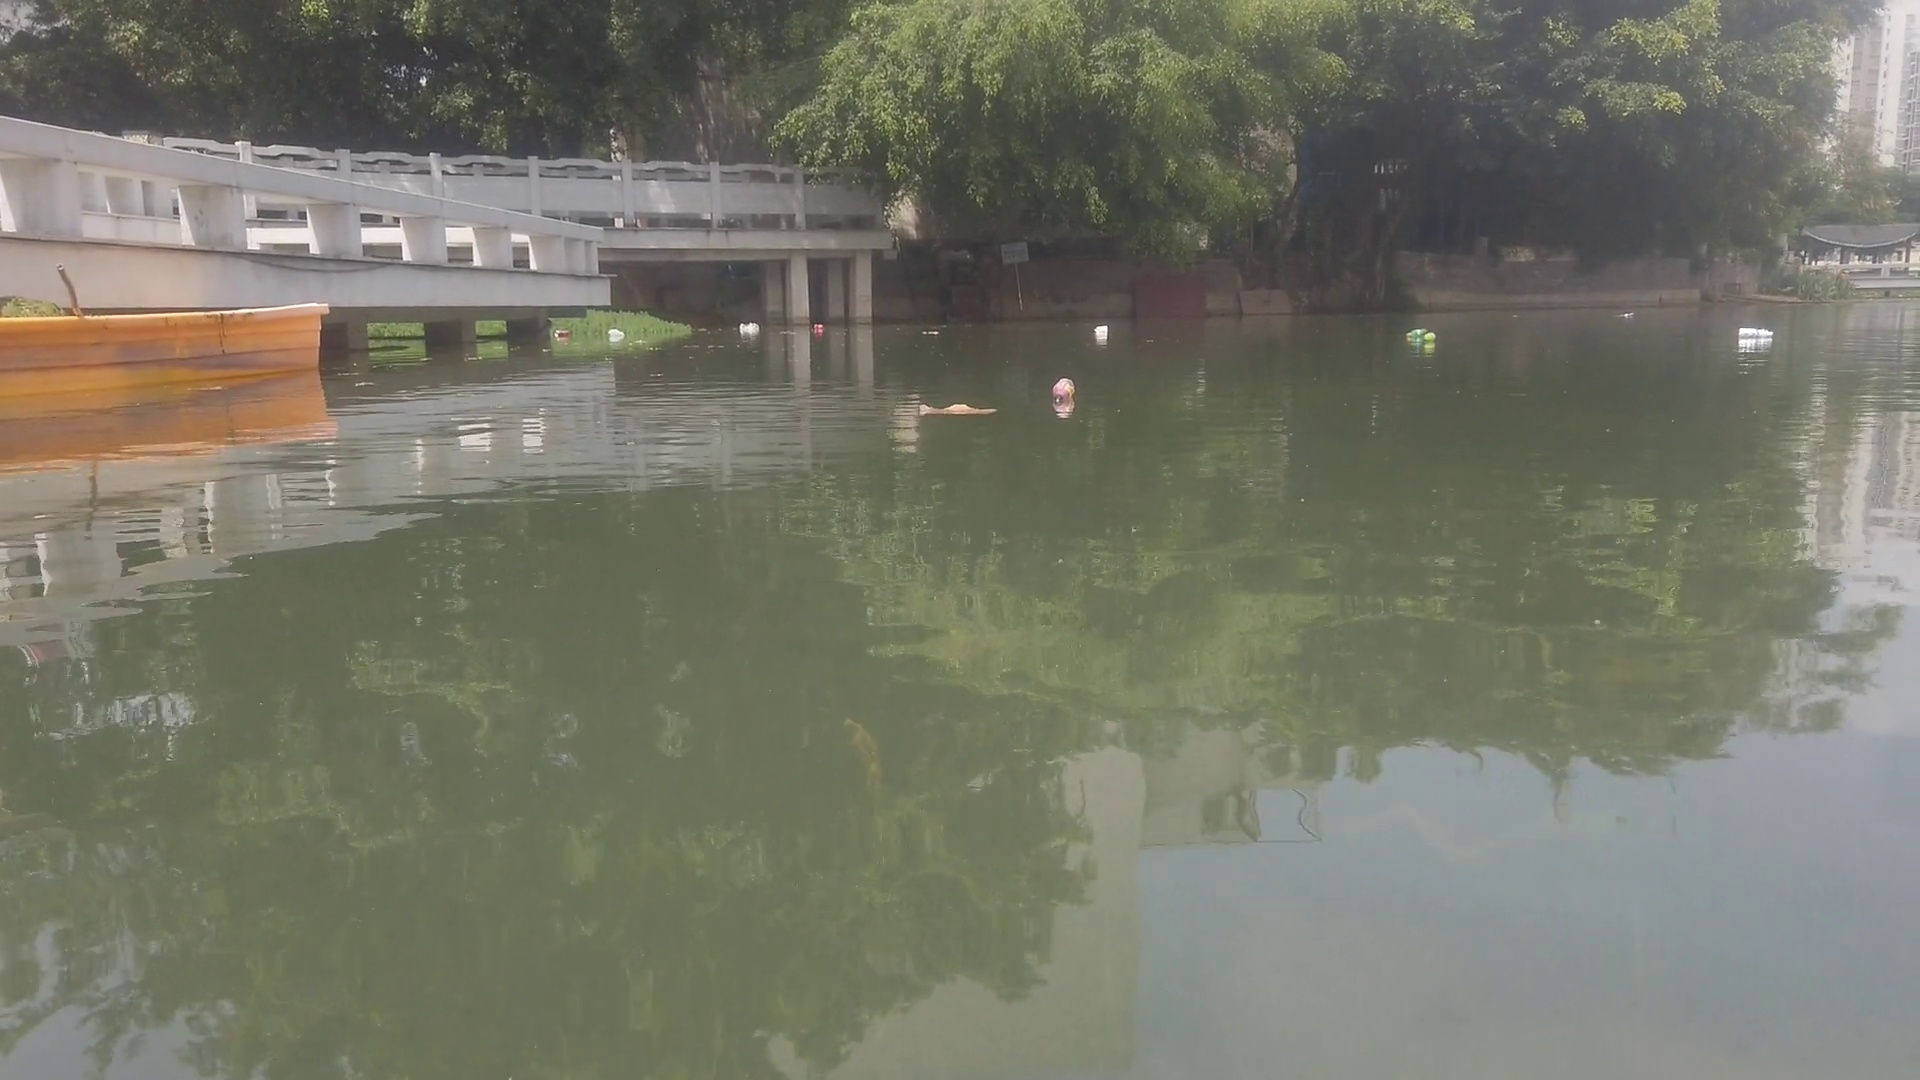bottle: (1047, 373, 1079, 411), (1737, 324, 1774, 340), (1406, 324, 1425, 343), (808, 319, 831, 335), (554, 328, 572, 339), (1423, 334, 1435, 342)
carton: (1095, 320, 1109, 338)
paper: (916, 397, 996, 425), (920, 324, 942, 338)
plastic: (607, 324, 629, 338), (738, 319, 758, 334)
